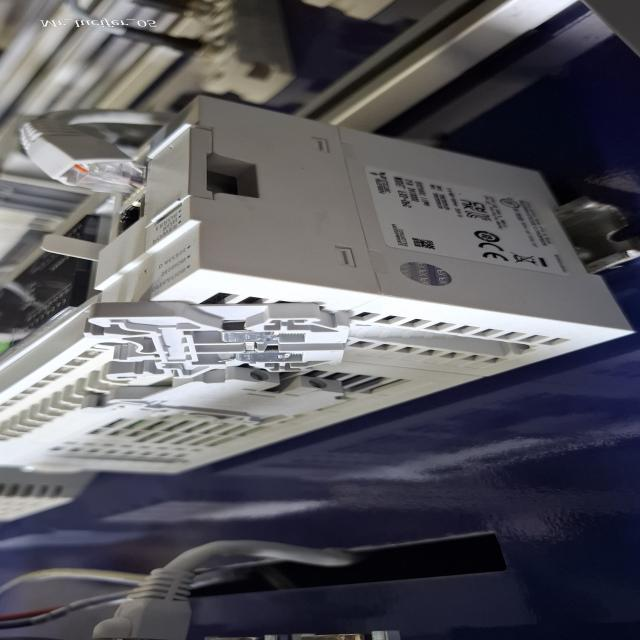Inverted: (72, 370, 396, 449)
Pass: (70, 291, 427, 377)
